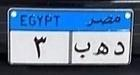3: (31, 34, 49, 59)
baa: (73, 40, 92, 61), (93, 40, 110, 58)
daal: (112, 38, 126, 57)
